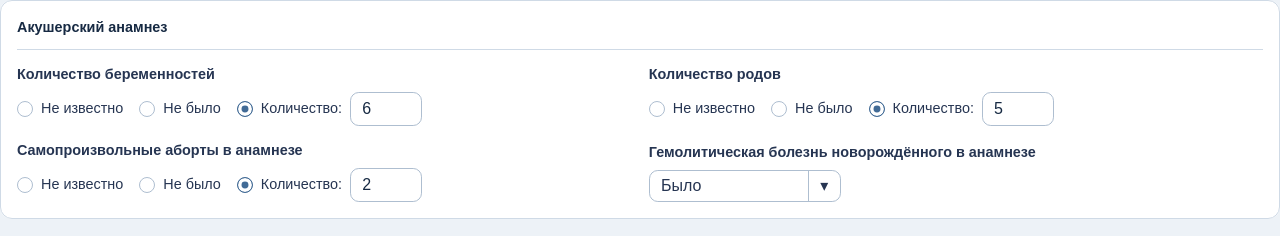
Test: clears only excessive counts when the pregnancy count is decreased
Replace the text in the number field named "Количество: Количество беременностей" with "4" at [386, 109], box [350,92,422,126]
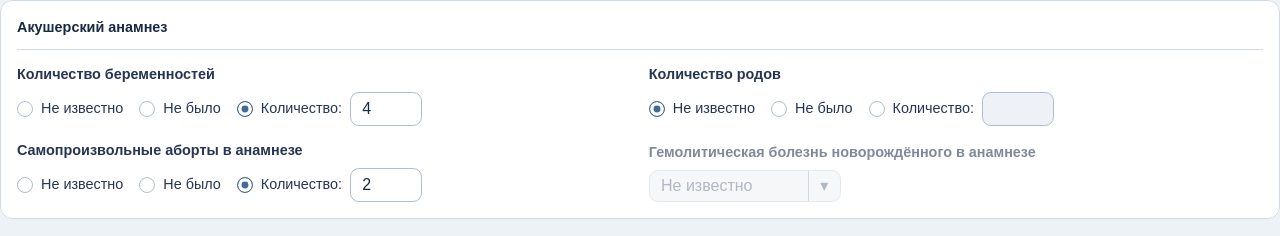
Expected: the radio button labelled "Не известно" below "Количество родов" is checked, [649,101,665,117]
Click the radio button labelled "Количество:" below "Количество родов".
click(877, 109)  # box [869,101,885,117]
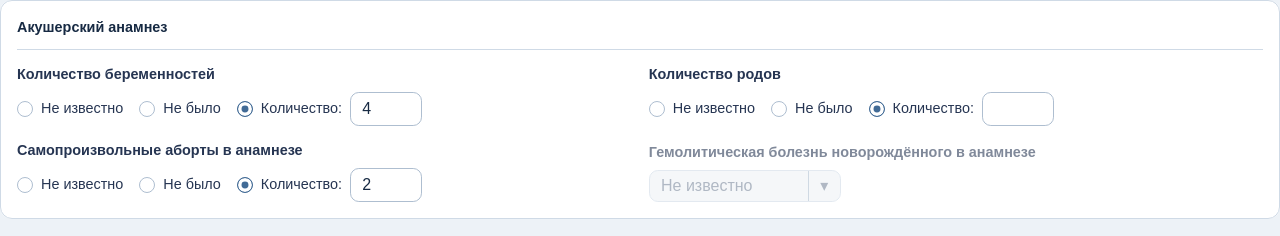
Type "4" into the number field named "Количество: Количество родов".
click(1018, 109); type("4")  # box [982,92,1054,126]
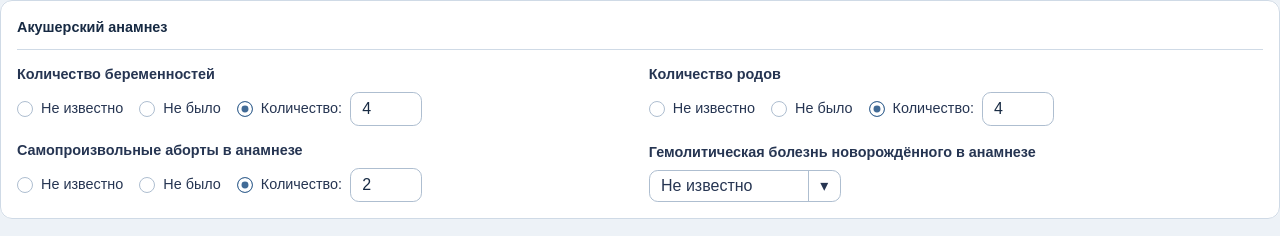
Replace the text in the number field named "Количество: Самопроизвольные аборты в анамнезе" with "4" at [386, 185], box [350,168,422,202]
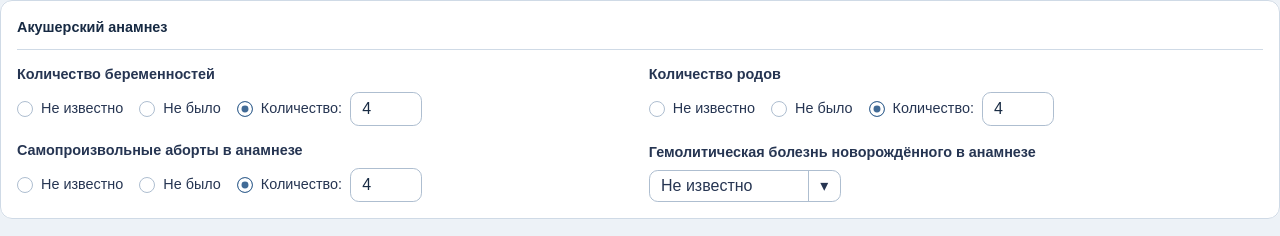
Replace the text in the number field named "Количество: Количество беременностей" with "1" at [386, 109], box [350,92,422,126]
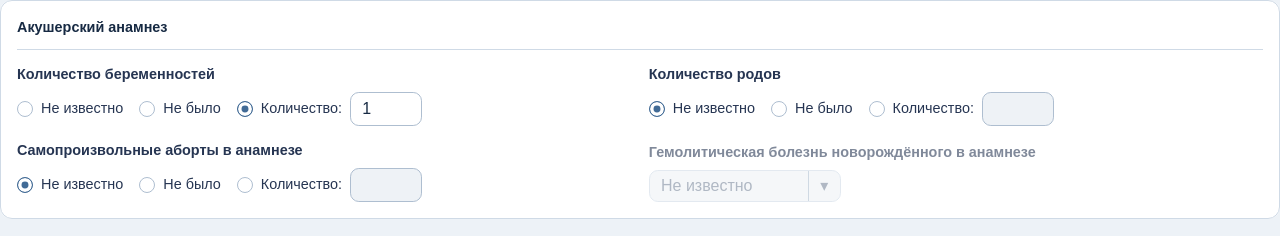
Expected: the radio button labelled "Не известно" below "Количество родов" is checked, [649,101,665,117]
Expected: the radio button labelled "Не известно" below "Самопроизвольные аборты в анамнезе" is checked, [17,177,33,193]
